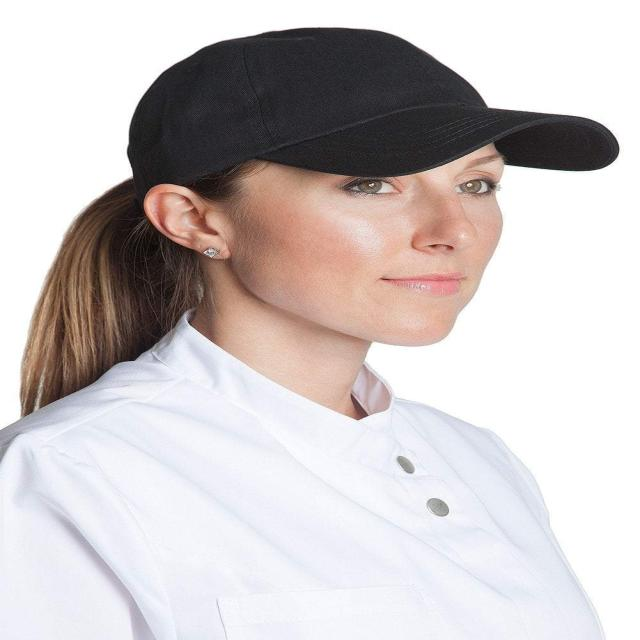3_gorra: (127, 26, 621, 186)
